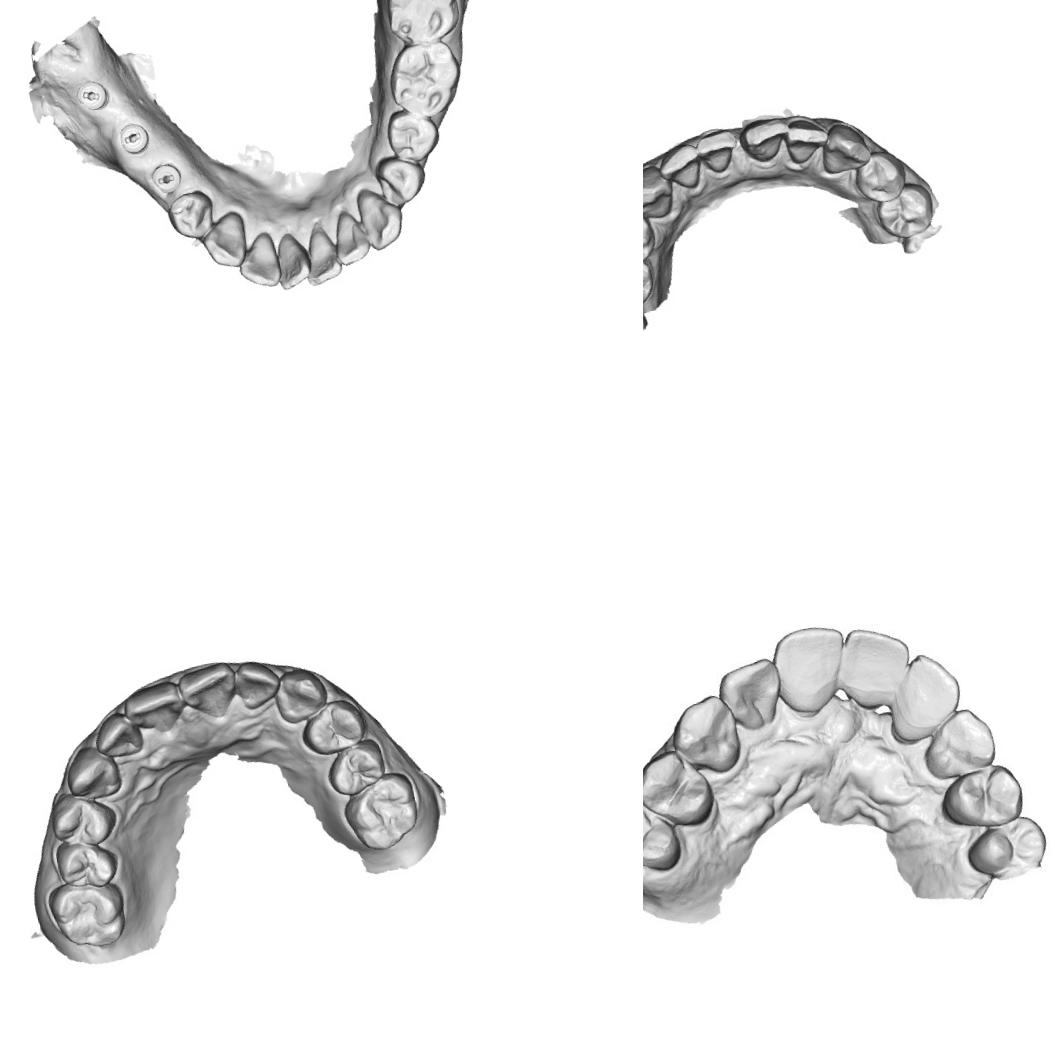canine: (916, 701, 1002, 783), (670, 690, 742, 770), (60, 740, 124, 804), (353, 182, 409, 254), (269, 663, 332, 727), (814, 116, 878, 178), (198, 207, 252, 272), (643, 158, 679, 225)
implant: (70, 74, 114, 114)
implant_minus: (116, 118, 154, 158), (146, 159, 185, 197)
incisor: (766, 621, 852, 719), (831, 618, 917, 714), (882, 649, 968, 741), (712, 654, 788, 735), (173, 657, 241, 724), (120, 678, 186, 740), (736, 109, 792, 168), (780, 111, 835, 170), (232, 228, 282, 292), (230, 656, 284, 713), (89, 709, 146, 762), (298, 224, 344, 288), (328, 205, 374, 268), (272, 228, 315, 292), (690, 126, 742, 177), (656, 138, 705, 192)
molar: (338, 768, 425, 856), (382, 37, 467, 122), (44, 874, 131, 955), (379, 0, 465, 49)
premolar: (643, 751, 718, 824), (948, 762, 1026, 830), (968, 815, 1049, 880), (44, 786, 120, 852), (296, 694, 370, 760), (321, 735, 389, 799), (52, 834, 122, 894), (871, 179, 938, 239), (382, 104, 444, 168), (847, 148, 912, 208), (372, 151, 430, 210), (164, 188, 218, 245), (643, 796, 681, 872), (643, 203, 660, 268), (643, 251, 659, 315)
